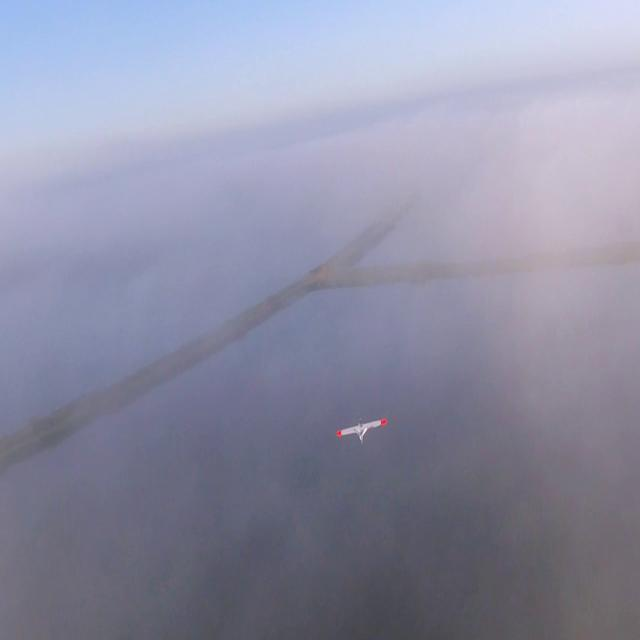iha: (334, 416, 388, 451)
